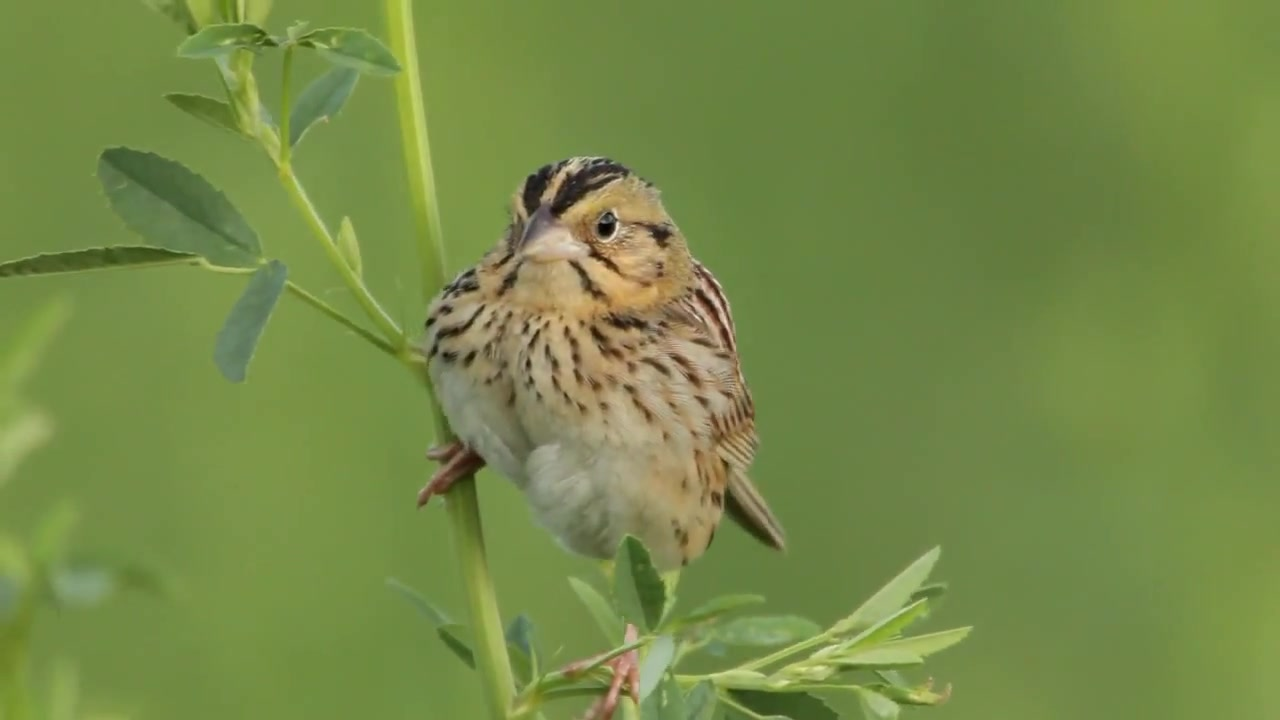bird: (414, 156, 788, 718)
